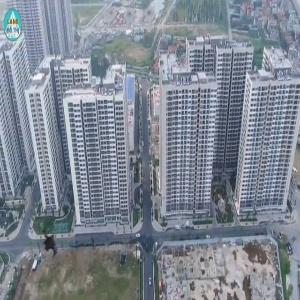drone: (31, 216, 78, 263)
